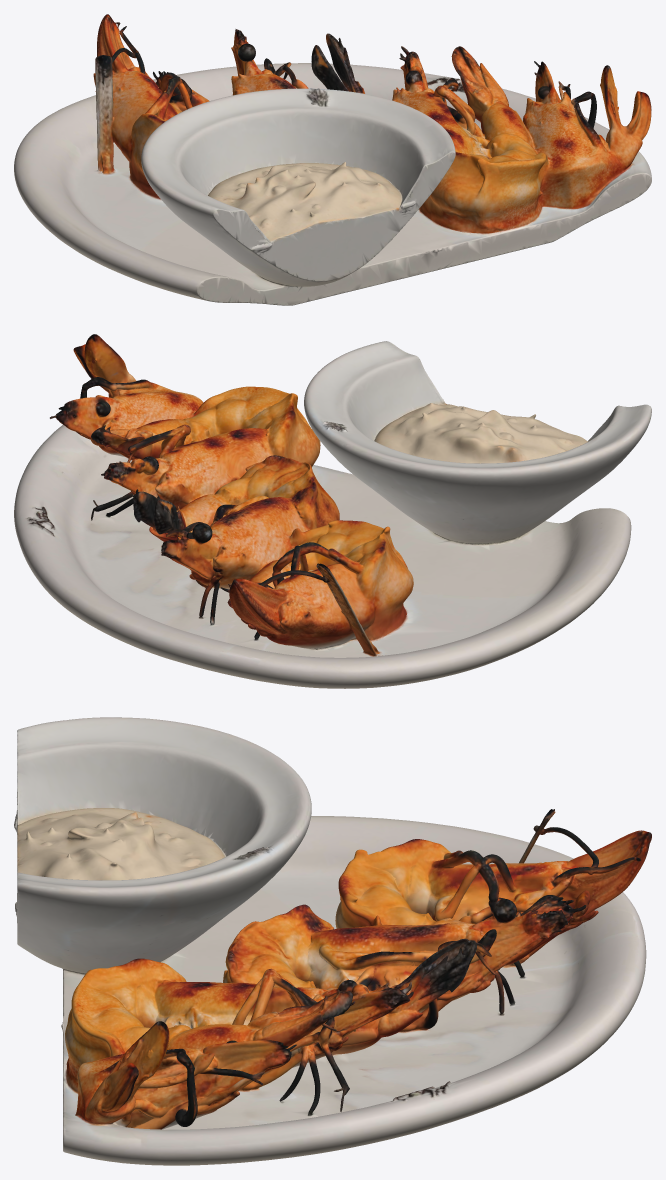
Rendered from aspas-camarao.glb.
The picture shows the model from 3 angles, top to bottom: view 1: azimuth 30°, elevation 25°; view 2: azimuth 150°, elevation 25°; view 3: azimuth 270°, elevation 25°; orthographic projection. The views are drawn at different scales.
Parts seen in each view (by area): view 1: tripo_node_416e312a-fab8-46ee-9135-b5f826a56163; view 2: tripo_node_416e312a-fab8-46ee-9135-b5f826a56163; view 3: tripo_node_416e312a-fab8-46ee-9135-b5f826a56163.
Part boxes in pixels (left/top/right/bottom): tripo_node_416e312a-fab8-46ee-9135-b5f826a56163: left=14, top=14, right=651, bottom=305; tripo_node_416e312a-fab8-46ee-9135-b5f826a56163: left=14, top=334, right=651, bottom=688; tripo_node_416e312a-fab8-46ee-9135-b5f826a56163: left=14, top=717, right=651, bottom=1165.
Bounding box in the file's own units: 0.3 × 0.0744 × 0.2421.
Materials: 1 (1 with a texture image).
